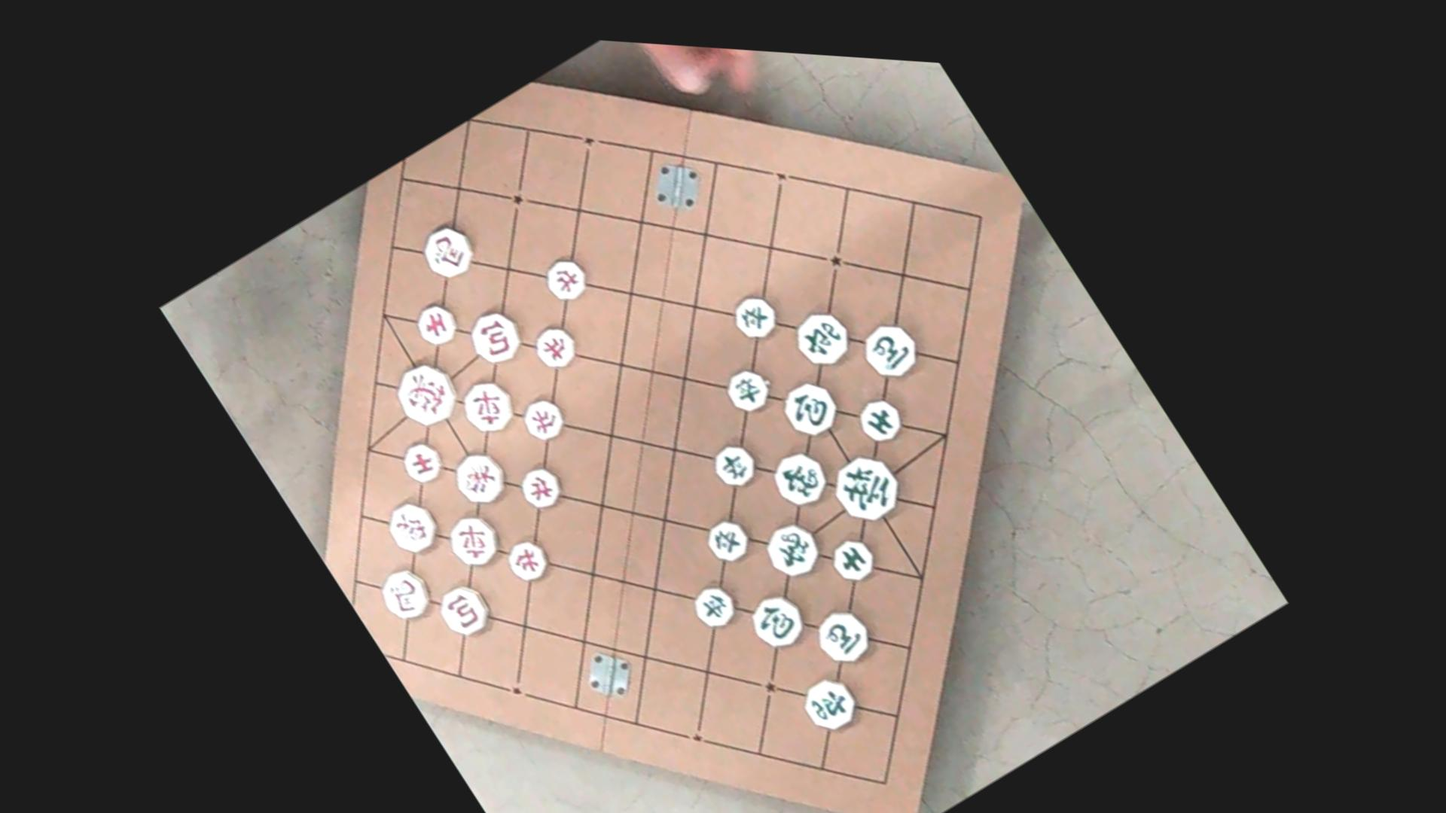cha_green: (786, 301, 856, 375), (796, 669, 862, 739)
cha_red: (454, 371, 520, 441), (441, 507, 505, 574)
jol_green: (726, 287, 782, 346), (720, 361, 776, 419), (685, 577, 740, 635), (706, 437, 761, 495), (700, 512, 754, 569)
jol_red: (527, 318, 581, 375), (538, 251, 592, 307), (514, 459, 567, 516), (500, 533, 553, 588), (517, 391, 569, 446)
ma_green: (855, 314, 925, 388), (810, 602, 877, 672)
ma_red: (414, 217, 480, 287), (372, 560, 435, 628)
po_green: (775, 372, 844, 444), (743, 585, 812, 657)
po_red: (461, 301, 527, 371), (432, 577, 496, 644)
sa_green: (825, 531, 880, 588), (853, 391, 907, 448)
sa_red: (409, 296, 462, 352), (395, 434, 447, 490)
sang_green: (758, 514, 828, 587), (765, 442, 834, 515)
sang_red: (447, 443, 512, 512), (380, 493, 443, 561)
wang_green: (823, 443, 908, 533)
wang_red: (386, 353, 465, 437)
